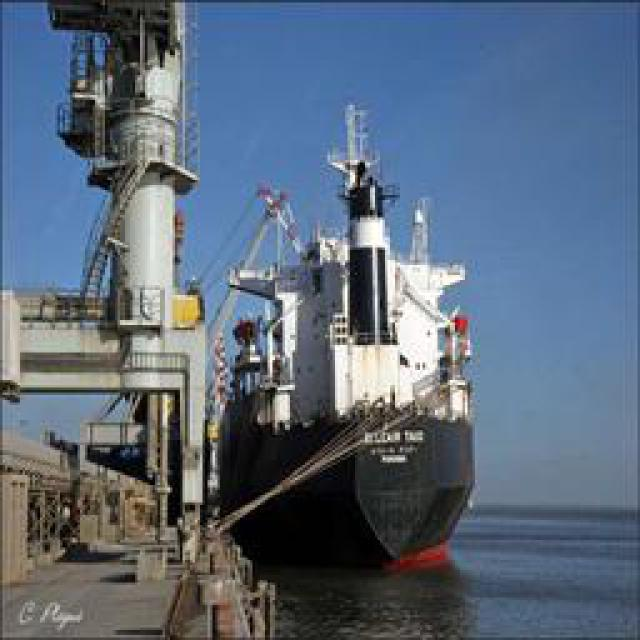Ship: (193, 95, 478, 575)
